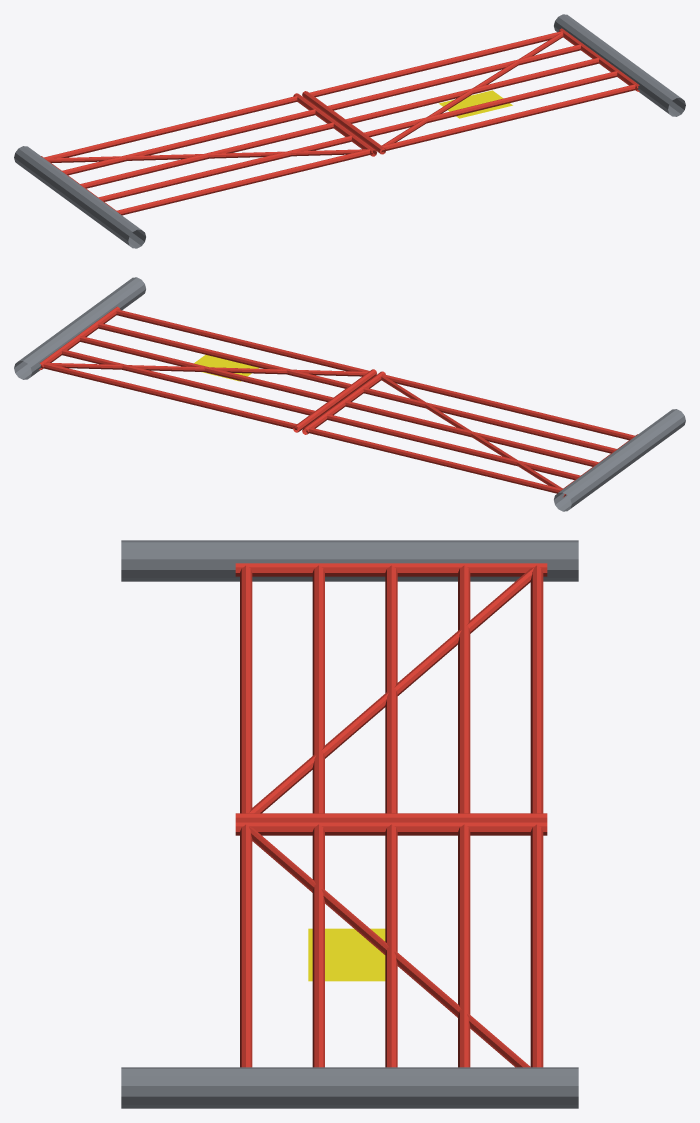
Rendered from farm_gate.obj.
The picture shows the model from 3 angles, top to bottom: view 1: azimuth 30°, elevation 25°; view 2: azimuth 150°, elevation 25°; view 3: azimuth 270°, elevation 25°; orthographic projection. The views are drawn at different scales.
Size of the model in its own units: 6.2 by 0.2 by 2.2.
